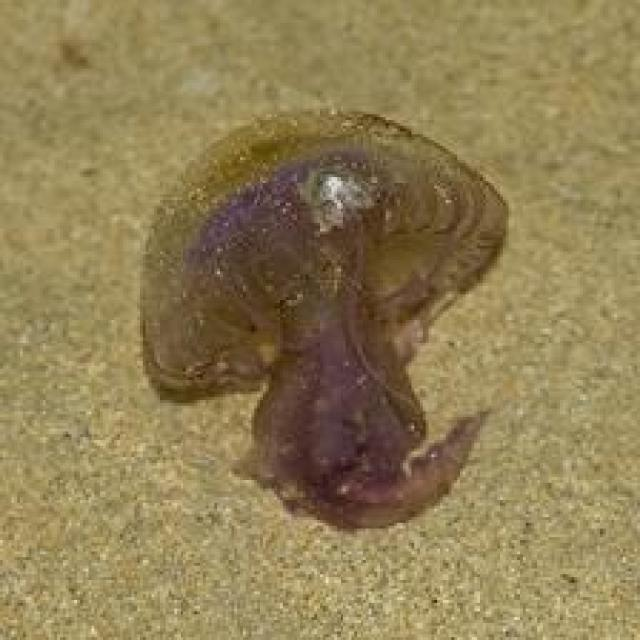Box-jellyfish: (134, 103, 509, 531)
